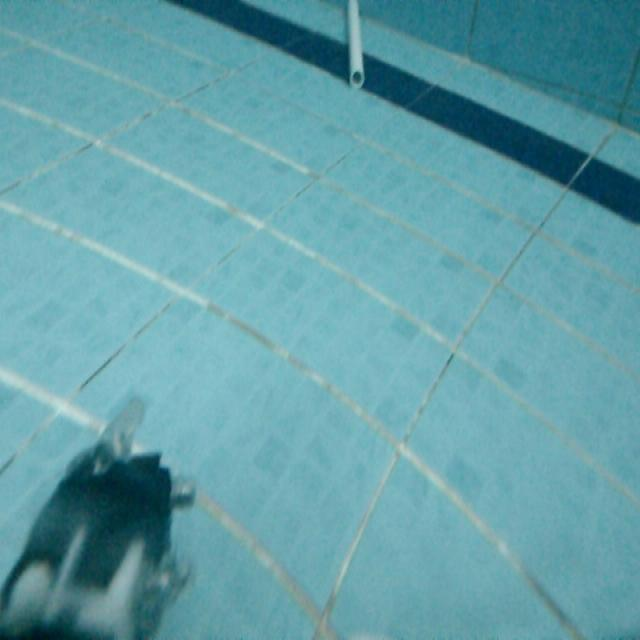Cube: (341, 0, 368, 91)
